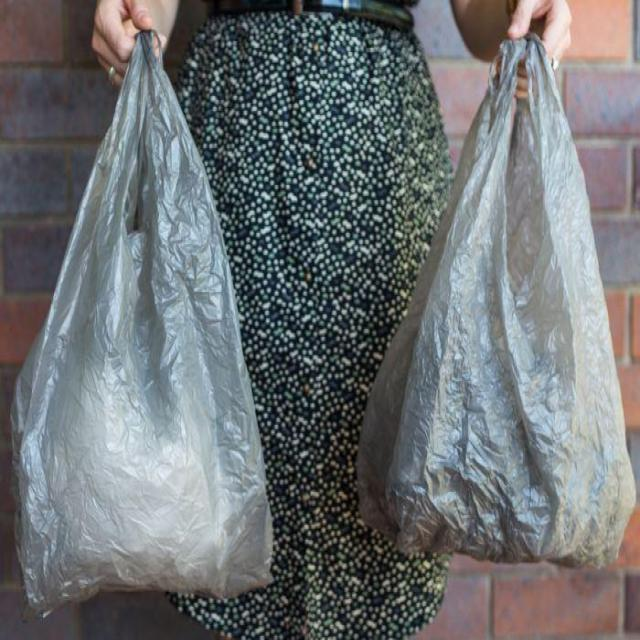plastic_bag: (32, 112, 249, 615), (396, 111, 617, 535)
